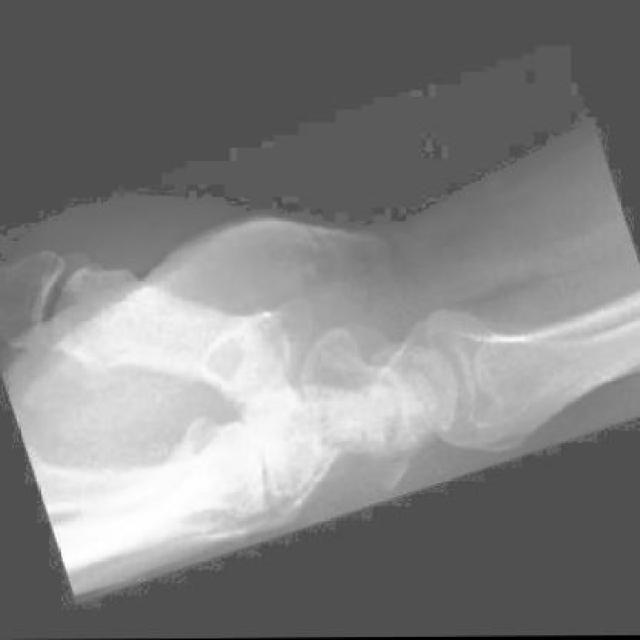Fracture: (357, 426, 422, 491)
